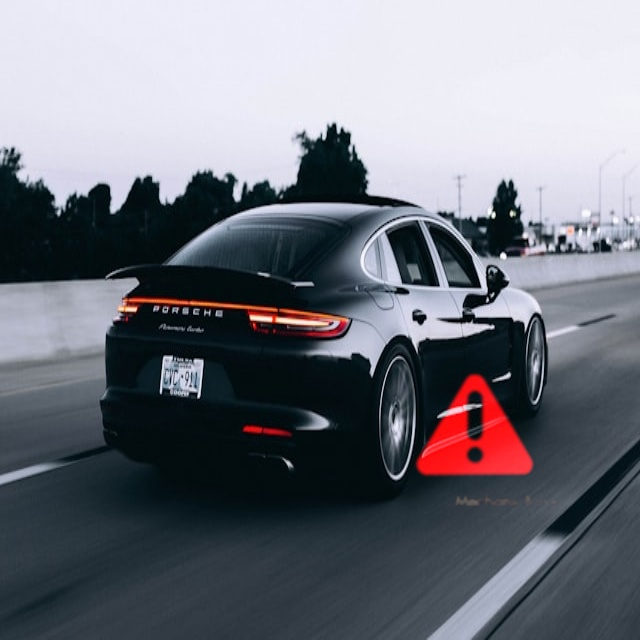symbol: (384, 335, 565, 516)
